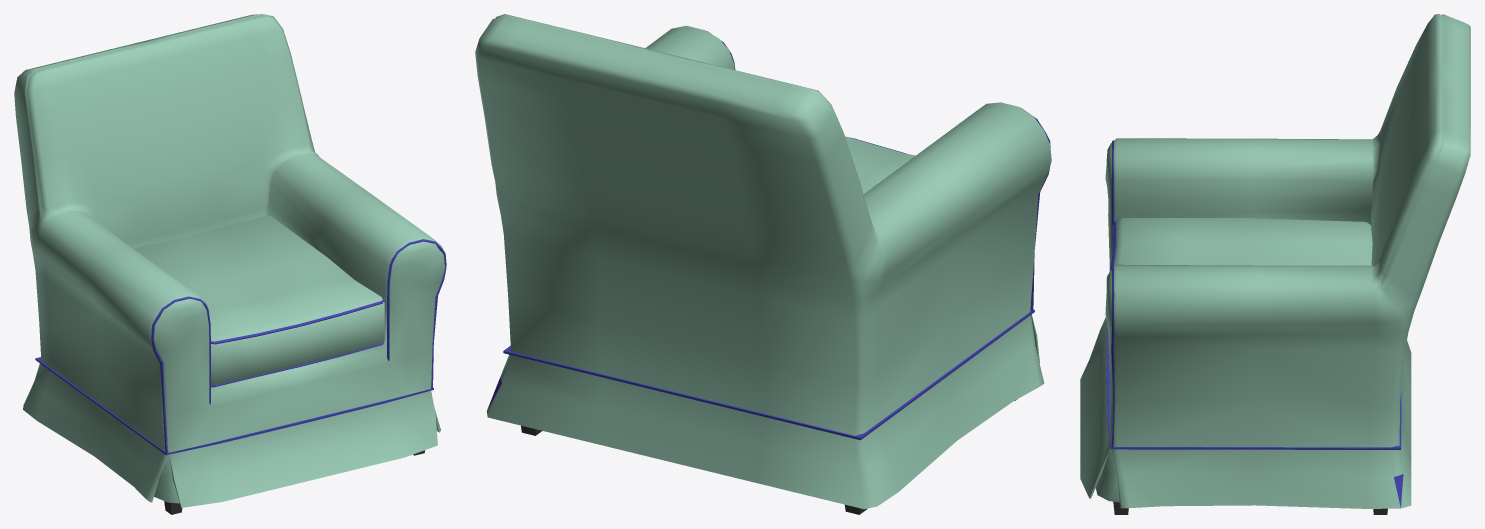
The model's file is EktorpJennylundChair.FBX.
The picture shows the model from 3 angles, left to right: view 1: azimuth 30°, elevation 25°; view 2: azimuth 150°, elevation 25°; view 3: azimuth 270°, elevation 25°; orthographic projection. The views are drawn at different scales.
Parts seen in each view (by area): view 1: EktorpJennylundChair; view 2: EktorpJennylundChair; view 3: EktorpJennylundChair.
Boxes of the visible parts, x1=… form: EktorpJennylundChair: x1=14, y1=14, x2=446, y2=514; EktorpJennylundChair: x1=475, y1=14, x2=1051, y2=514; EktorpJennylundChair: x1=1080, y1=14, x2=1470, y2=514.
Size of the model in its own units: 78.58 by 80.24 by 84.
